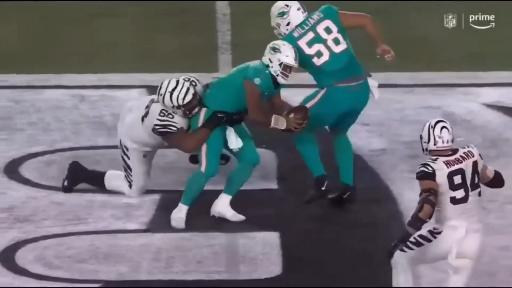Helmet: (159, 79, 201, 117), (262, 40, 298, 83), (271, 2, 307, 38), (420, 119, 454, 154)
Jersey: (282, 5, 365, 88), (416, 146, 483, 225), (203, 61, 280, 112), (118, 96, 189, 150)
Player: (271, 2, 394, 202), (62, 76, 232, 196), (390, 119, 504, 286), (171, 122, 259, 228)
